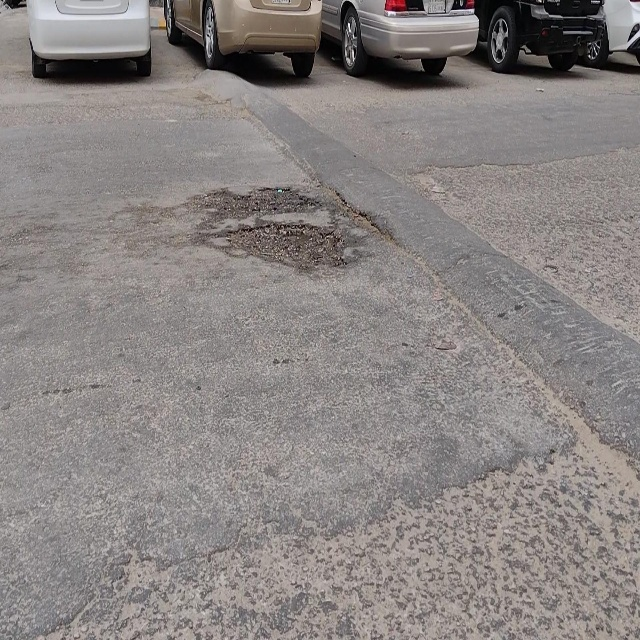pothole: (211, 183, 341, 278)
